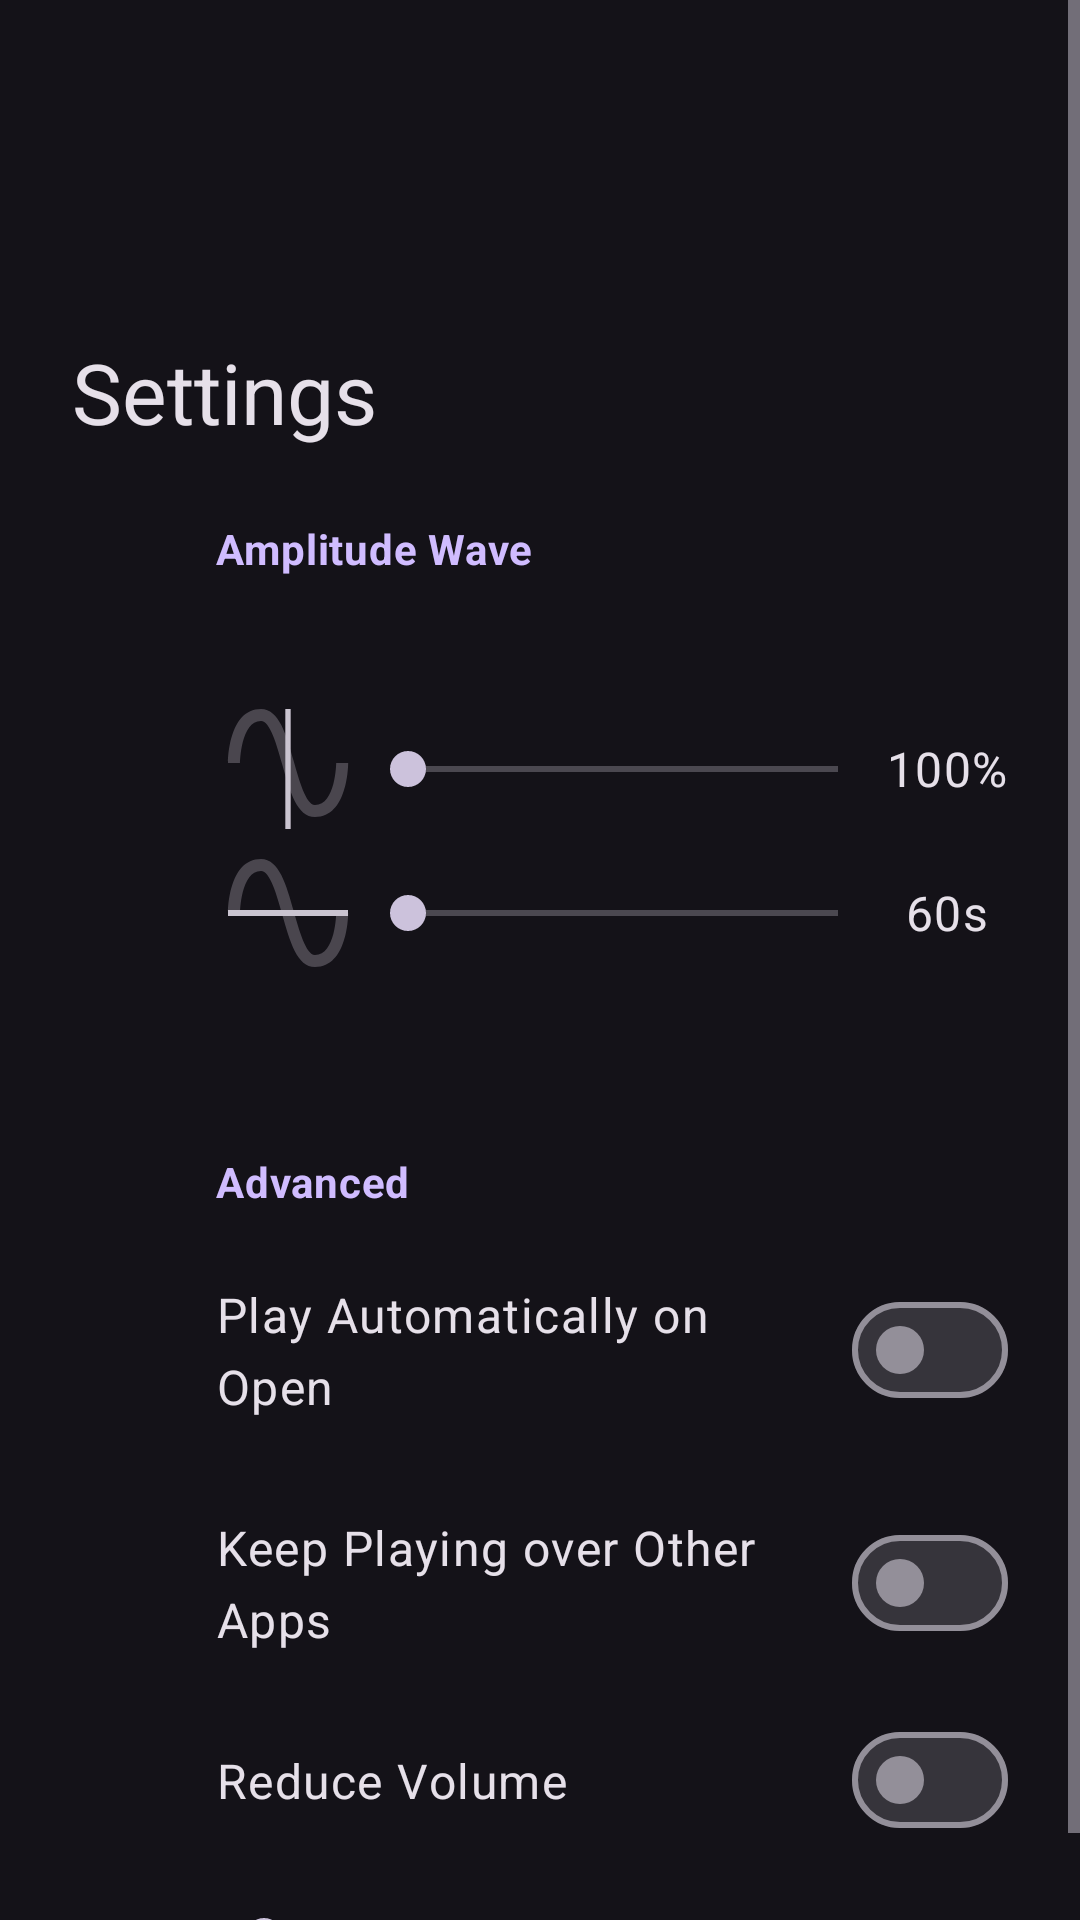

Icon bounding boxes for this 1080w x 1920h phone screenshot, format (x1, y1, x2, y2):
frequency: (228, 859, 348, 967)
